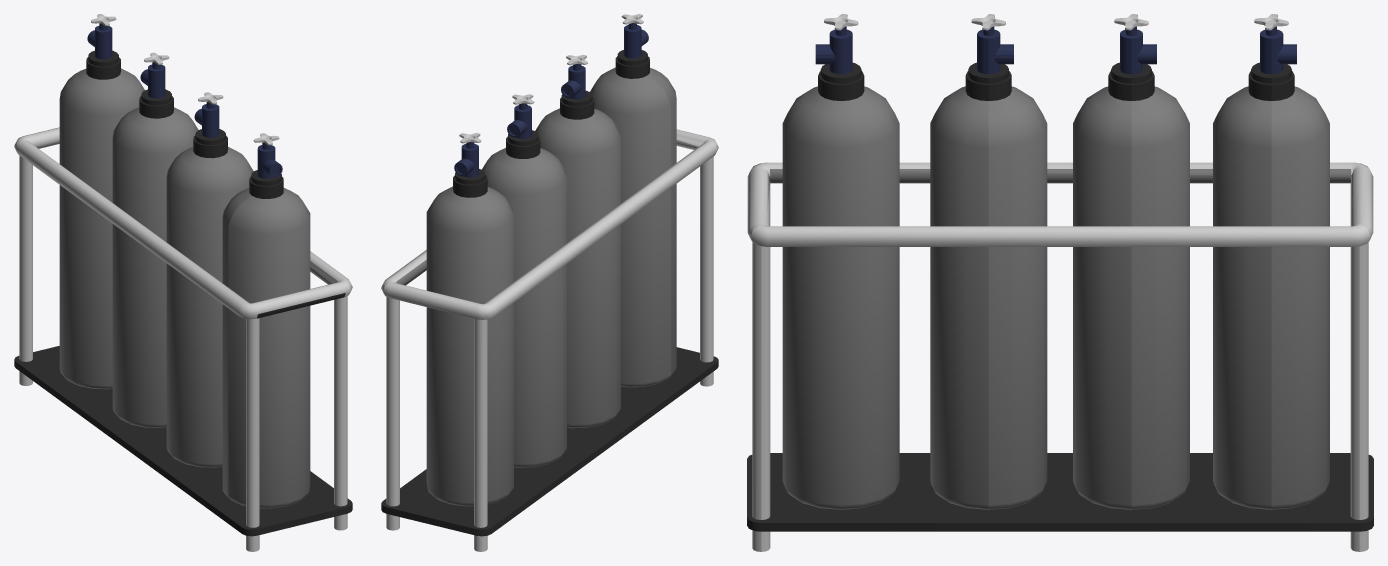
The model's file is Oxygen Tanks.fbx.
3 renders of one model, left to right at view 1: azimuth 30°, elevation 25°; view 2: azimuth 150°, elevation 25°; view 3: azimuth 270°, elevation 25°, orthographic. The views are drawn at different scales.
Parts seen in each view (by area): view 1: Circle.004; view 2: Circle.004; view 3: Circle.004.
Part boxes in pixels (bbox=[...]): Circle.004: bbox=[14, 14, 352, 551]; Circle.004: bbox=[381, 14, 718, 551]; Circle.004: bbox=[747, 14, 1373, 551].
Size of the model in its own units: 5.59 by 17.82 by 20.27.
